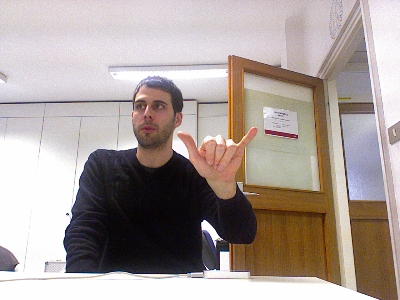六六六: (175, 125, 258, 180)
